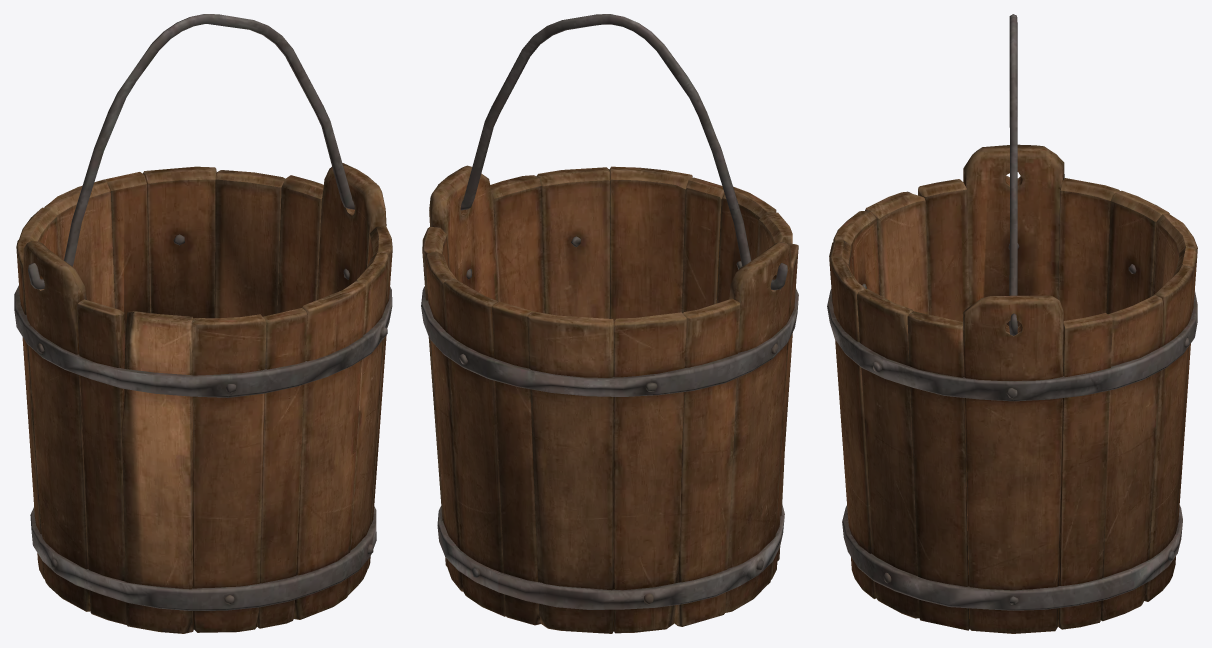
Rendered from wooden_bucket_01.glb.
The picture shows the model from 3 angles, left to right: view 1: azimuth 30°, elevation 25°; view 2: azimuth 150°, elevation 25°; view 3: azimuth 270°, elevation 25°; orthographic projection.
Visible parts, largest first — view 1: wooden_bucket_01; view 2: wooden_bucket_01; view 3: wooden_bucket_01.
Boxes of the visible parts, x1,y1,x2,y2 form: wooden_bucket_01: (14,14,392,633); wooden_bucket_01: (421,14,798,633); wooden_bucket_01: (827,14,1197,633).
Size of the model in its own units: 0.367 by 0.5499 by 0.3419.
1 material, 1 textured.
